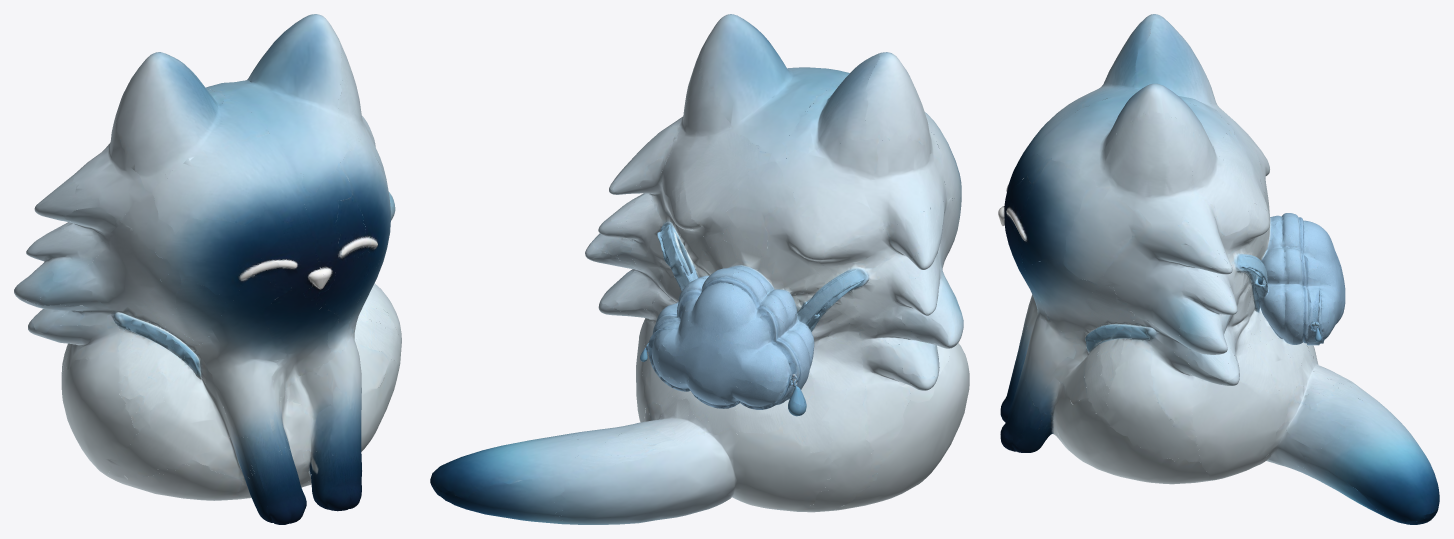
The model's file is cloud-backpack-C4tb0EVQ.glb.
3 renders of one model, left to right at view 1: azimuth 30°, elevation 25°; view 2: azimuth 150°, elevation 25°; view 3: azimuth 270°, elevation 25°, orthographic. The views are drawn at different scales.
Visible parts, largest first — view 1: worn-cloud-backpack; view 2: worn-cloud-backpack; view 3: worn-cloud-backpack.
Part boxes in pixels (x1,y1,x2,y2): worn-cloud-backpack: (14, 14, 401, 524); worn-cloud-backpack: (430, 14, 969, 524); worn-cloud-backpack: (998, 14, 1439, 524).
Bounding box in the file's own units: 1.89 × 1.84 × 1.9.
Materials: 1 (1 with a texture image).
